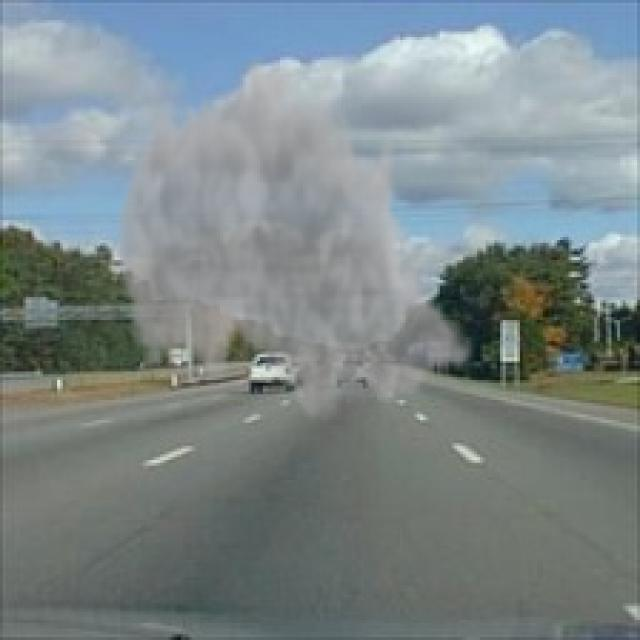Smoke: (112, 49, 477, 432)
